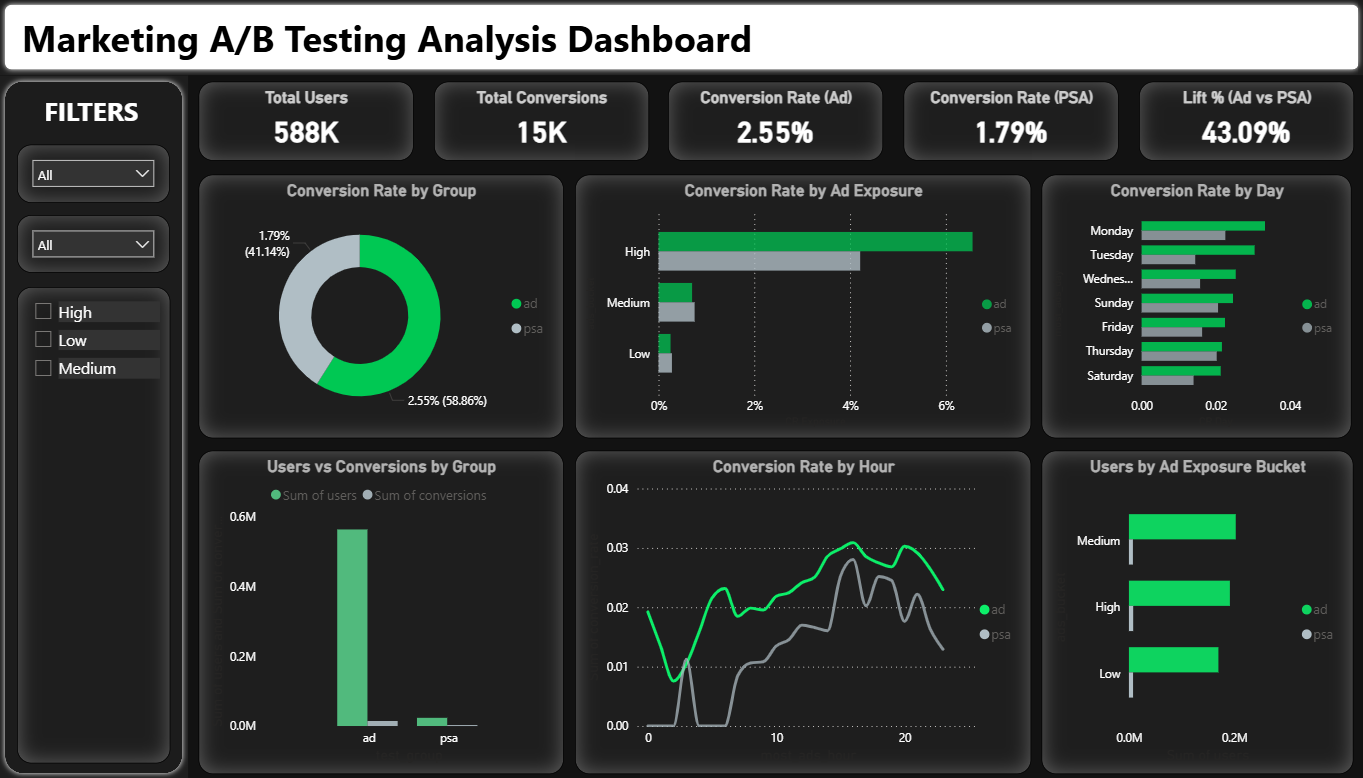

The dashboard page shown, as its layout file describes it:
{"tool":"powerbi","page":{"name":"Page 1","canvas":[1400,800],"ordinal":0},"visuals":[{"type":"shape","box":[0,0,1400.9,78.3],"z":0},{"type":"textbox","box":[18.7,8.5,1331.1,59.6],"z":1000},{"type":"card","title":"Total Users","fields":{"Values":["Sum(public ab_summary.users)"]},"box":[204.3,85.1,220.4,81],"z":2000},{"type":"clusteredColumnChart","title":"Users vs Conversions by Group","fields":{"Category":["public ab_summary.test_group"],"Y":["Sum(public ab_summary.users)","Sum(public ab_summary.conversions)"]},"box":[204.3,463,374.5,331.9],"z":3000},{"type":"card","title":"Total Conversions","fields":{"Values":["Sum(public ab_summary.conversions)"]},"box":[445.4,85.1,220.4,81],"z":4000},{"type":"lineChart","title":"Conversion Rate by Hour","fields":{"Category":["public conversion_by_hour.most_ads_hour"],"Series":["public conversion_by_hour.test_group"],"Y":["Sum(public conversion_by_hour.conversion_rate)"]},"box":[590.6,463,468.1,331.9],"z":5000},{"type":"card","title":"Conversion Rate (Ad)","fields":{"Values":["Max(public ab_summary.conversion_rate)"]},"box":[686.6,85.1,220.4,81],"z":6000},{"type":"clusteredBarChart","title":"Conversion Rate by Day","fields":{"Category":["public conversion_by_day.most_ads_day"],"Y":["public conversion_by_day.CR Day"],"Series":["public conversion_by_day.test_group"]},"box":[1069,180.4,318.3,270.6],"z":7000},{"type":"card","title":"Conversion Rate (PSA)","fields":{"Values":["Max(public ab_summary.conversion_rate)"]},"box":[927.7,85.1,220.4,81],"z":8000},{"type":"donutChart","title":"Conversion Rate by Group","fields":{"Category":["public ab_summary.test_group"],"Y":["Sum(public ab_summary.conversion_rate)"],"Series":["public ab_summary.conversions"]},"box":[204.3,180.4,374.5,270.6],"z":9000},{"type":"card","title":"Lift % (Ad vs PSA)","fields":{"Values":["public ab_summary.Lift %"]},"box":[1168.9,85.1,220.4,81],"z":10000},{"type":"clusteredBarChart","title":"Conversion Rate by Ad Exposure","fields":{"Category":["public ads_exposure_summary.ads_bucket"],"Y":["public ads_exposure_summary.CR Exposure"],"Series":["public ads_exposure_summary.test_group"]},"box":[590,180.4,468.1,270.6],"z":11000},{"type":"clusteredBarChart","title":"Users by Ad Exposure Bucket","fields":{"Category":["public ads_exposure_summary.ads_bucket"],"Y":["Sum(public ads_exposure_summary.users)"],"Series":["public ads_exposure_summary.test_group"]},"box":[1068.9,463,320,331.9],"z":12000},{"type":"shape","box":[0,78.3,194,721.7],"z":13000},{"type":"slicer","title":"Test Group","fields":{"Values":["public ab_summary.test_group"]},"box":[18.7,149.8,156.6,60],"z":14000},{"type":"textbox","box":[39.1,90.2,112.3,59.6],"z":15000},{"type":"slicer","title":"Day of Week","fields":{"Values":["public conversion_by_day.most_ads_day"]},"box":[18.7,221.3,156.6,59.6],"z":16000},{"type":"slicer","title":"Ad Exposure Level","fields":{"Values":["public ads_exposure_summary.ads_bucket"]},"box":[18.2,294.8,157.3,488.6],"z":17000}]}

Visuals, with their boxes in screenshot pixels (x1, y1, x2, y2), scaled from the page's 1400x800 canvas onto the 1363x778 screenshot:
shape: bbox=(0, 0, 1362, 76)
textbox: bbox=(18, 8, 1314, 66)
"Total Users" card: bbox=(199, 83, 413, 162)
"Users vs Conversions by Group" clusteredColumnChart: bbox=(199, 450, 564, 773)
"Total Conversions" card: bbox=(434, 83, 648, 162)
"Conversion Rate by Hour" lineChart: bbox=(575, 450, 1031, 773)
"Conversion Rate (Ad)" card: bbox=(668, 83, 883, 162)
"Conversion Rate by Day" clusteredBarChart: bbox=(1041, 175, 1351, 439)
"Conversion Rate (PSA)" card: bbox=(903, 83, 1118, 162)
"Conversion Rate by Group" donutChart: bbox=(199, 175, 564, 439)
"Lift % (Ad vs PSA)" card: bbox=(1138, 83, 1353, 162)
"Conversion Rate by Ad Exposure" clusteredBarChart: bbox=(574, 175, 1030, 439)
"Users by Ad Exposure Bucket" clusteredBarChart: bbox=(1041, 450, 1352, 773)
shape: bbox=(0, 76, 189, 777)
"Test Group" slicer: bbox=(18, 146, 171, 204)
textbox: bbox=(38, 88, 147, 146)
"Day of Week" slicer: bbox=(18, 215, 171, 273)
"Ad Exposure Level" slicer: bbox=(18, 287, 171, 762)
